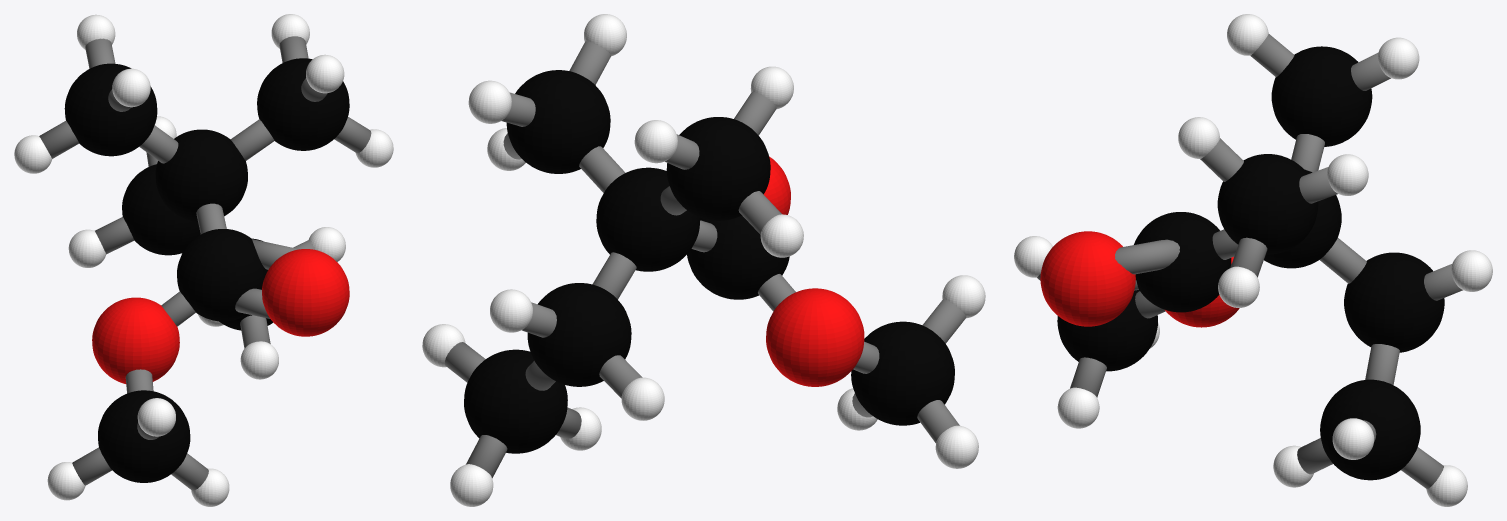
Rendered from POLIMETACRILATO METILO.obj.
3 renders of one model, left to right at view 1: azimuth 30°, elevation 25°; view 2: azimuth 150°, elevation 25°; view 3: azimuth 270°, elevation 25°, orthographic. The views are drawn at different scales.
Parts seen in each view (by area): view 1: Carbon_ball_Sphere, Hydrogen_ball_Sphere.001, Oxygen_ball_Sphere.002, Stick_Cylinder.019_Cylinder.019, Stick_Cylinder.002_Cylinder.002, Stick_Cylinder.010_Cylinder.010, Stick_Cylinder.020_Cylinder.020, Stick_Cylinder.018_Cylinder.018, Stick_Cylinder.003_Cylinder.003, Stick_Cylinder.008_Cylinder.008, Stick_Cylinder.009_Cylinder.009, Stick_Cylinder.005_Cylinder.005 (+6 smaller); view 2: Carbon_ball_Sphere, Hydrogen_ball_Sphere.001, Oxygen_ball_Sphere.002, Stick_Cylinder.015_Cylinder.015, Stick_Cylinder.019_Cylinder.019, Stick_Cylinder.013_Cylinder.013, Stick_Cylinder.021_Cylinder.021, Stick_Cylinder.001_Cylinder.001, Stick_Cylinder.017_Cylinder.017, Stick_Cylinder.020_Cylinder.020, Stick_Cylinder.002_Cylinder.002, Stick_Cylinder.010_Cylinder.010 (+5 smaller); view 3: Carbon_ball_Sphere, Hydrogen_ball_Sphere.001, Oxygen_ball_Sphere.002, Stick_Cylinder.022_Cylinder.022, Stick_Cylinder.015_Cylinder.015, Stick_Cylinder.014_Cylinder.014, Stick_Cylinder.021_Cylinder.021, Stick_Cylinder.013_Cylinder.013, Stick_Cylinder.017_Cylinder.017, Stick_Cylinder.018_Cylinder.018, Stick_Cylinder.003_Cylinder.003, Stick_Cylinder.008_Cylinder.008 (+5 smaller).
Part boxes in pixels (x1=…): Carbon_ball_Sphere: x1=64, y1=58, x2=349, y2=482; Hydrogen_ball_Sphere.001: x1=14, y1=14, x2=393, y2=506; Oxygen_ball_Sphere.002: x1=92, y1=249, x2=349, y2=383; Stick_Cylinder.019_Cylinder.019: x1=230, y1=119, x2=274, y2=160; Stick_Cylinder.002_Cylinder.002: x1=72, y1=447, x2=112, y2=485; Stick_Cylinder.010_Cylinder.010: x1=95, y1=217, x2=134, y2=254; Stick_Cylinder.020_Cylinder.020: x1=39, y1=121, x2=78, y2=158; Stick_Cylinder.018_Cylinder.018: x1=139, y1=125, x2=178, y2=163; Stick_Cylinder.003_Cylinder.003: x1=171, y1=453, x2=208, y2=490; Stick_Cylinder.008_Cylinder.008: x1=334, y1=117, x2=371, y2=153; Stick_Cylinder.009_Cylinder.009: x1=240, y1=315, x2=270, y2=348; Stick_Cylinder.005_Cylinder.005: x1=196, y1=203, x2=226, y2=234; Carbon_ball_Sphere: x1=464, y1=70, x2=954, y2=453; Hydrogen_ball_Sphere.001: x1=422, y1=14, x2=985, y2=506; Oxygen_ball_Sphere.002: x1=764, y1=156, x2=864, y2=386; Stick_Cylinder.015_Cylinder.015: x1=592, y1=252, x2=636, y2=299; Stick_Cylinder.019_Cylinder.019: x1=579, y1=146, x2=625, y2=192; Stick_Cylinder.013_Cylinder.013: x1=569, y1=41, x2=611, y2=84; Stick_Cylinder.021_Cylinder.021: x1=734, y1=91, x2=776, y2=135; Stick_Cylinder.001_Cylinder.001: x1=922, y1=299, x2=966, y2=343; Stick_Cylinder.017_Cylinder.017: x1=466, y1=435, x2=507, y2=478; Stick_Cylinder.020_Cylinder.020: x1=738, y1=191, x2=781, y2=234; Stick_Cylinder.002_Cylinder.002: x1=917, y1=400, x2=959, y2=442; Stick_Cylinder.010_Cylinder.010: x1=599, y1=355, x2=642, y2=398; Carbon_ball_Sphere: x1=1057, y1=46, x2=1444, y2=480; Hydrogen_ball_Sphere.001: x1=1014, y1=14, x2=1492, y2=506; Oxygen_ball_Sphere.002: x1=1040, y1=231, x2=1239, y2=327; Stick_Cylinder.022_Cylinder.022: x1=1115, y1=239, x2=1179, y2=274; Stick_Cylinder.015_Cylinder.015: x1=1319, y1=237, x2=1366, y2=283; Stick_Cylinder.014_Cylinder.014: x1=1365, y1=344, x2=1399, y2=385; Stick_Cylinder.021_Cylinder.021: x1=1250, y1=34, x2=1294, y2=76; Stick_Cylinder.013_Cylinder.013: x1=1200, y1=138, x2=1243, y2=181; Stick_Cylinder.017_Cylinder.017: x1=1401, y1=447, x2=1443, y2=488; Stick_Cylinder.018_Cylinder.018: x1=1291, y1=134, x2=1324, y2=172; Stick_Cylinder.003_Cylinder.003: x1=1070, y1=357, x2=1106, y2=397; Stick_Cylinder.008_Cylinder.008: x1=1230, y1=237, x2=1267, y2=277.
Size of the model in its own units: 6.76 by 6.23 by 6.59.
